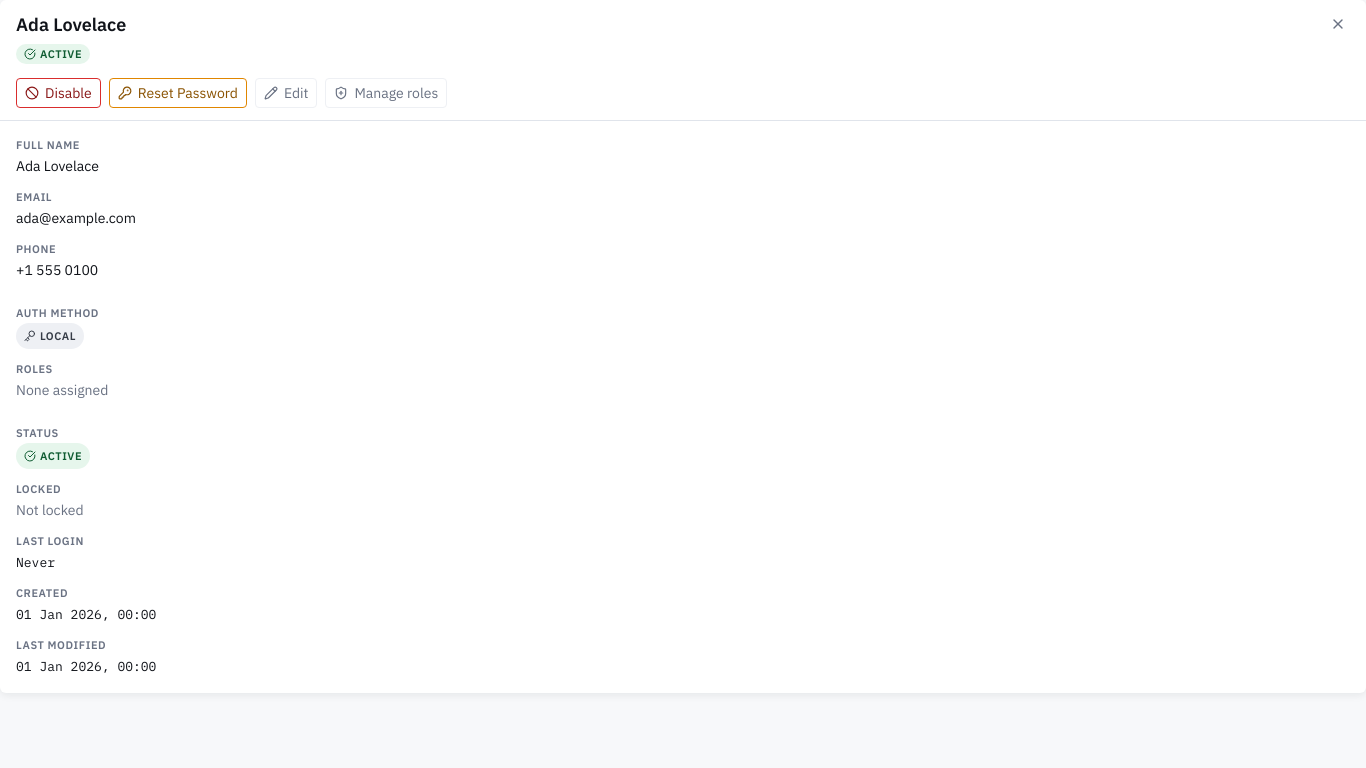
Test: UserDetail edit mode › switches to the edit form when Edit is clicked, and back on Cancel
Click the button "Edit" at (286,93), box [255, 78, 318, 108]
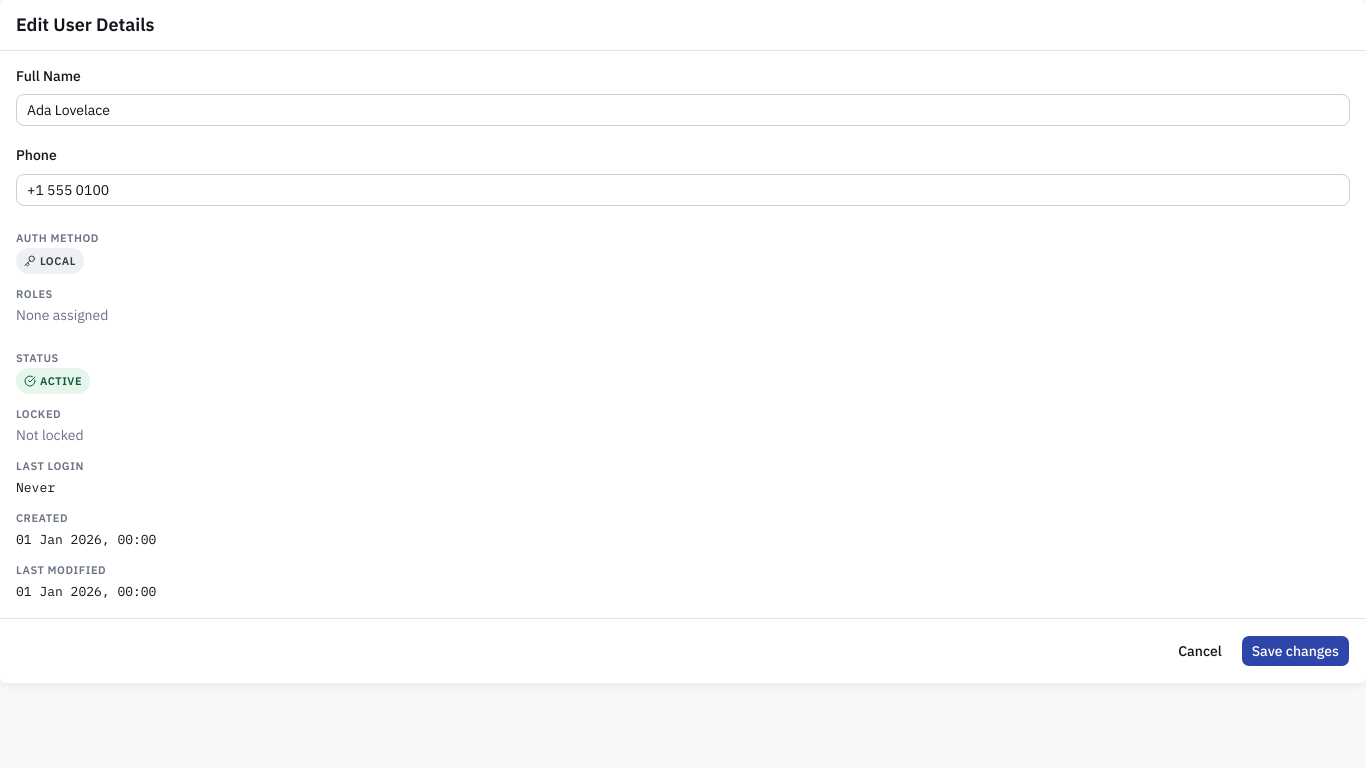
Expected: the heading "Edit User Details" is shown, [16, 12, 155, 38]
Expected: the field labelled "Full Name" is shown, [16, 94, 1350, 126]
Expected: the field labelled "Phone" is shown, [16, 174, 1350, 206]
Click the button "Cancel" at (1200,650), box [1167, 634, 1233, 666]
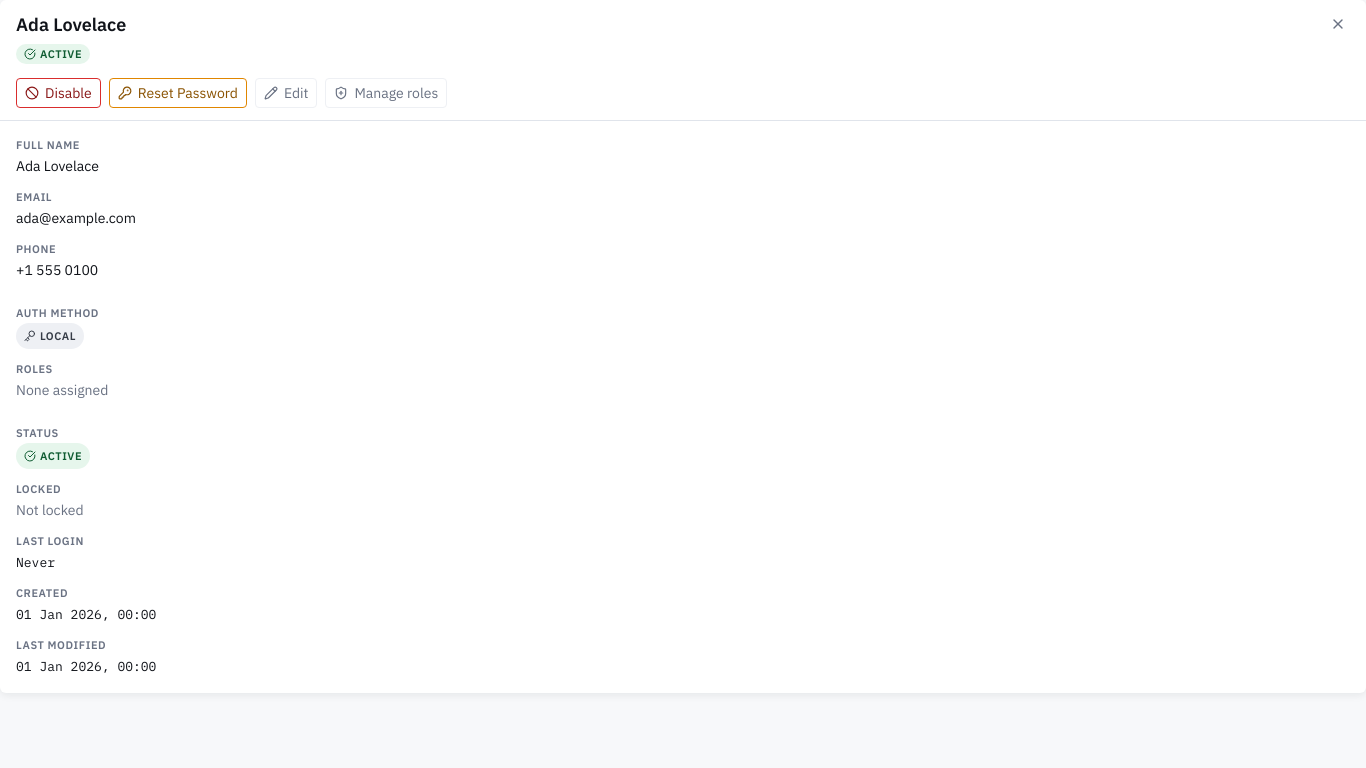
Expected: the heading "Ada Lovelace" is shown, [16, 12, 126, 38]
